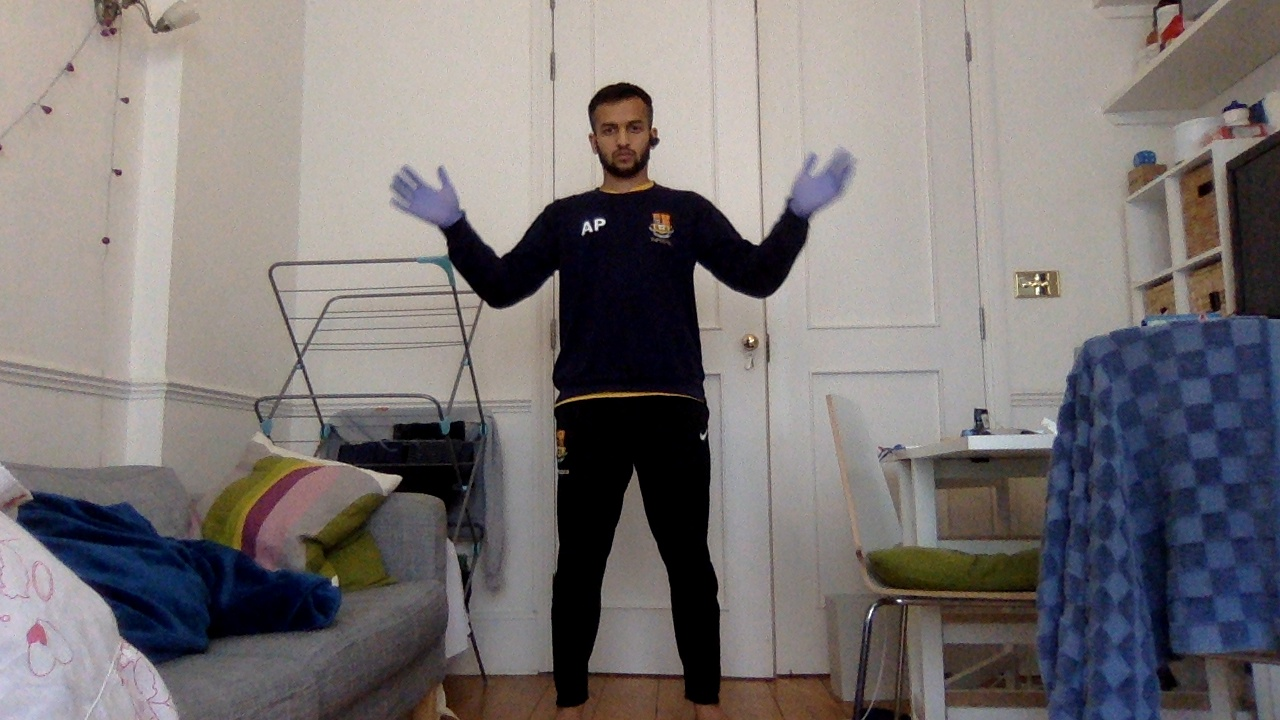glove: (784, 144, 860, 226), (388, 161, 463, 229)
